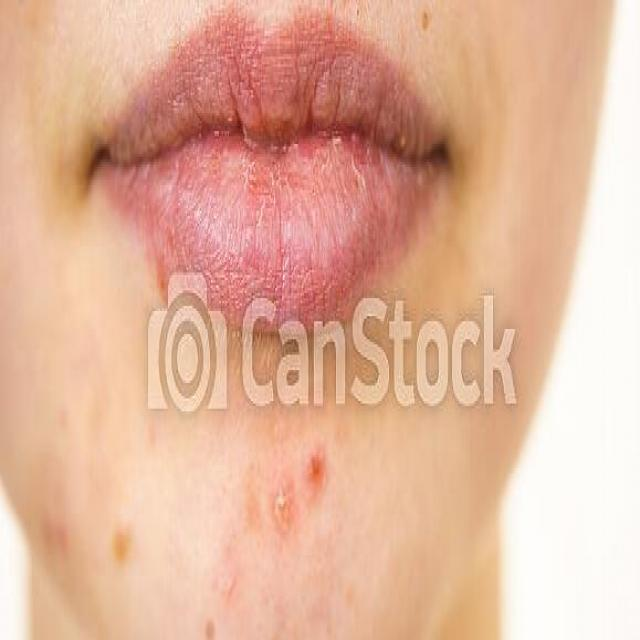blackheads: (271, 476, 293, 534), (307, 439, 323, 486), (112, 516, 127, 552), (420, 2, 430, 31)
